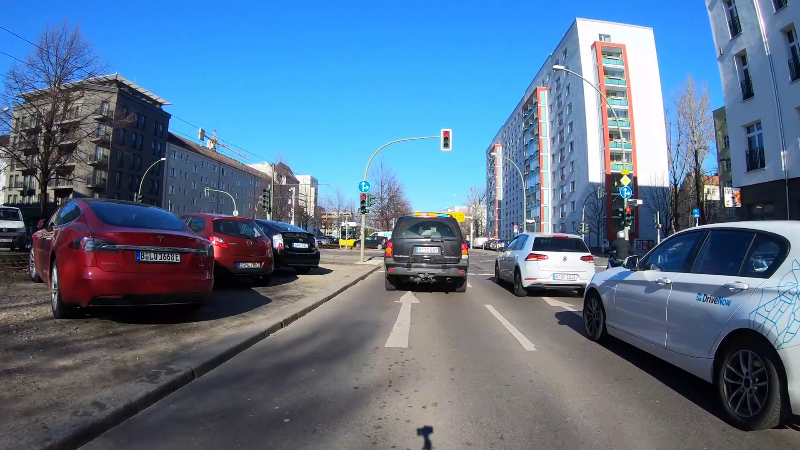Plate: (133, 248, 181, 262), (550, 272, 578, 281), (236, 259, 262, 268), (413, 245, 439, 254), (290, 239, 309, 248)
